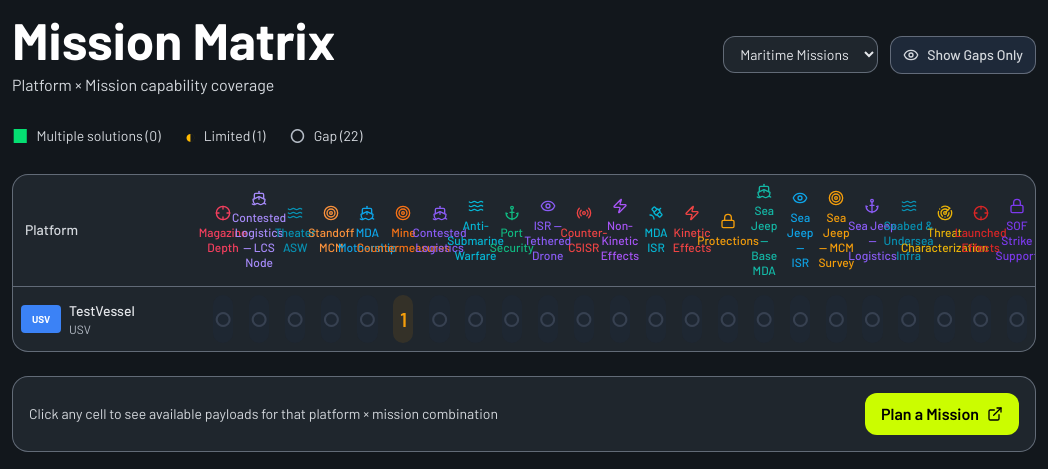
it: MissionMatrix › filters out maritime vessels when switching the domain to AERIAL
This screenshot has width=1048, height=469.
Expected: the text "TestVessel" is shown, x1=69 y1=301 x2=135 y2=321
Select "Aerial Missions" in the dropdown at coordinates (801, 55), box x1=723 y1=36 x2=878 y2=74
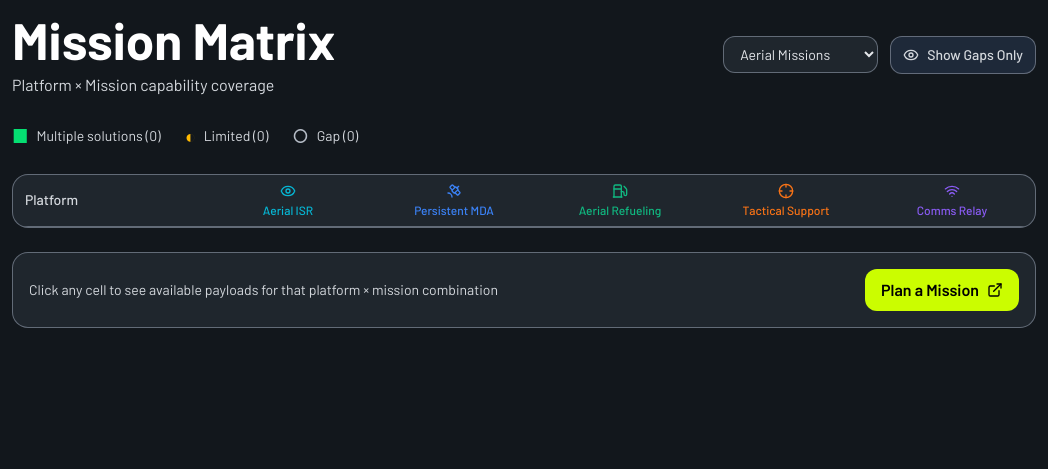
Expected: the button "TestVessel" is gone
Expected: the text "Aerial ISR" is shown, x1=263 y1=203 x2=313 y2=218
